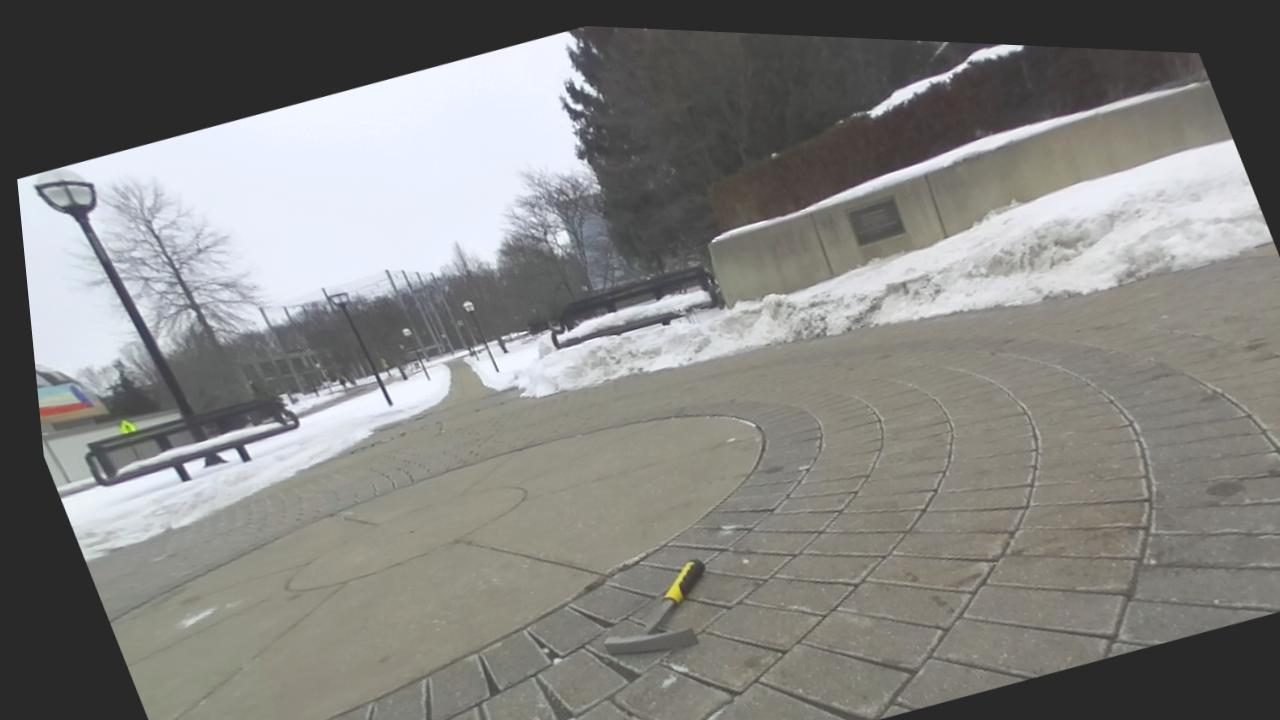pick: (604, 559, 704, 655)
